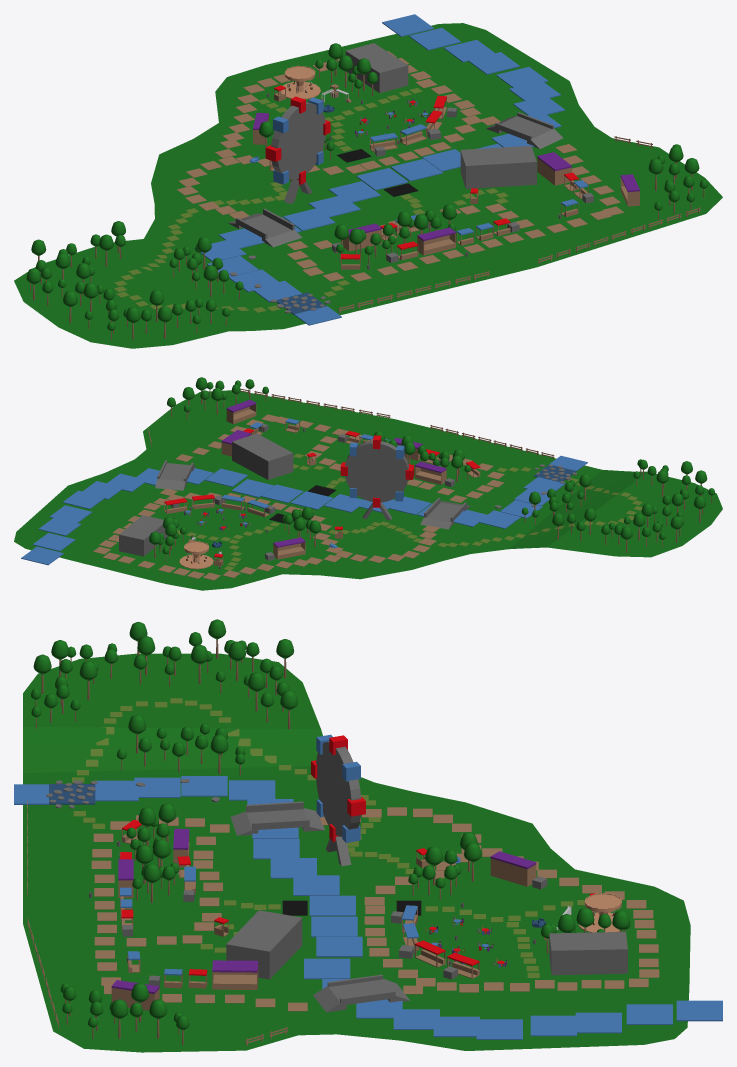
File: Blockoutmap_versie3.fbx
3 renders of one model, top to bottom at view 1: azimuth 30°, elevation 25°; view 2: azimuth 150°, elevation 25°; view 3: azimuth 270°, elevation 25°, orthographic. The views are drawn at different scales.
Visible parts, largest first — view 1: Base.003, Pad.351, Pad, Water, Boom.337, Pad.308, Reuzenrad, offroad, Spookslot?, kamelenrace ofzo, Brug2.003, Brug1.001 (+5 smaller); view 2: Base.003, Pad.351, Boom.337, Water, Pad, Reuzenrad, Pad.308, offroad, Spookslot?, kamelenrace ofzo, Brug2.003, Brug1.001 (+6 smaller); view 3: Base.003, Pad.351, Water, Pad, Boom.337, Pad.308, Reuzenrad, offroad, Spookslot?, kamelenrace ofzo, Brug2.003, Brug1.001 (+7 smaller).
Boxes of the visible parts, box(x1,y1,x2,y2) form: Base.003: box(14, 23, 722, 348); Pad.351: box(194, 14, 565, 325); Pad: box(178, 51, 620, 281); Water: box(206, 15, 564, 325); Boom.337: box(26, 43, 707, 339); Pad.308: box(177, 51, 623, 281); Reuzenrad: box(265, 96, 330, 203); offroad: box(114, 88, 508, 312); Spookslot?: box(460, 145, 536, 188); kamelenrace ofzo: box(345, 43, 408, 93); Brug2.003: box(228, 208, 302, 247); Brug1.001: box(486, 113, 563, 148); Base.003: box(14, 390, 722, 590); Pad.351: box(21, 456, 587, 565); Boom.337: box(149, 377, 714, 561); Water: box(24, 456, 587, 564); Pad: box(93, 414, 504, 580); Reuzenrad: box(340, 435, 414, 520); Pad.308: box(93, 415, 504, 578); offroad: box(177, 453, 642, 570); Spookslot?: box(232, 433, 293, 479); kamelenrace ofzo: box(119, 515, 167, 556); Brug2.003: box(420, 498, 470, 529); Brug1.001: box(155, 463, 194, 490); Base.003: box(23, 653, 690, 1051); Pad.351: box(14, 776, 722, 1039); Water: box(14, 777, 672, 1037); Pad: box(92, 807, 659, 1011); Boom.337: box(31, 619, 630, 1044); Pad.308: box(91, 807, 659, 1010); Reuzenrad: box(311, 734, 365, 866); offroad: box(72, 698, 584, 977); Spookslot?: box(226, 910, 302, 979); kamelenrace ofzo: box(549, 931, 627, 975); Brug2.003: box(230, 801, 324, 835); Brug1.001: box(313, 976, 409, 1012).
Size of the model in its own units: 16192 by 2365 by 12605.
